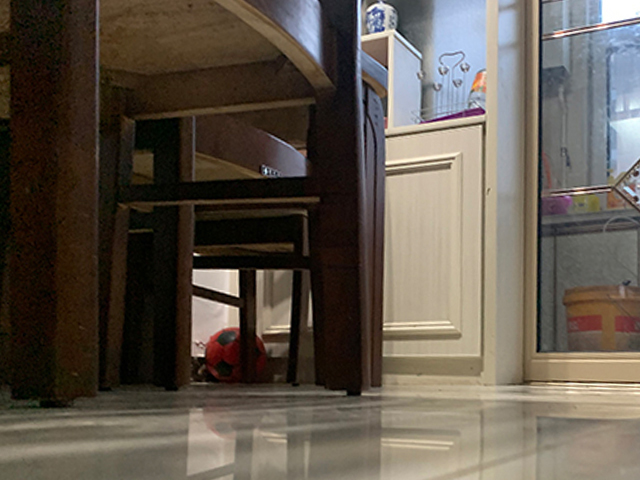cabinet: (379, 116, 518, 386)
stool: (1, 1, 371, 407)
